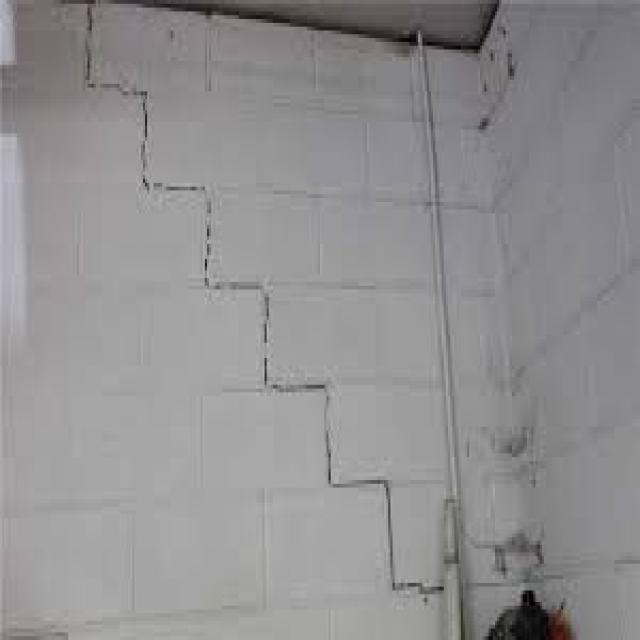Crack: (81, 0, 442, 598)
